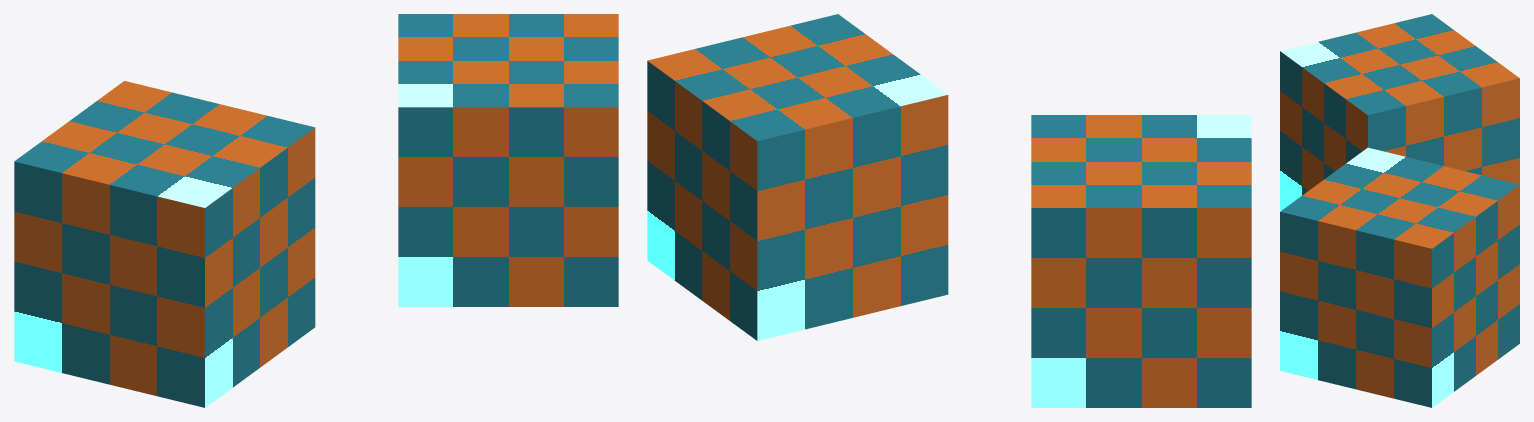
3 views of the same model, side by side, from view 1: azimuth 30°, elevation 25°; view 2: azimuth 150°, elevation 25°; view 3: azimuth 270°, elevation 25° (orthographic). The views are drawn at different scales.
Parts seen in each view (by area): view 1: tangent-cube, computed-cube; view 2: computed-cube, tangent-cube; view 3: computed-cube, tangent-cube.
Boxes of the visible parts, x1,y1,x2,y2 form: tangent-cube: [14, 81, 315, 407]; computed-cube: [398, 14, 618, 306]; computed-cube: [647, 14, 948, 340]; tangent-cube: [1031, 115, 1251, 407]; computed-cube: [1280, 147, 1519, 407]; tangent-cube: [1280, 14, 1519, 210].
Size of the model in its own units: 3.17 by 1 by 1.37.
2 materials, 2 textured.
